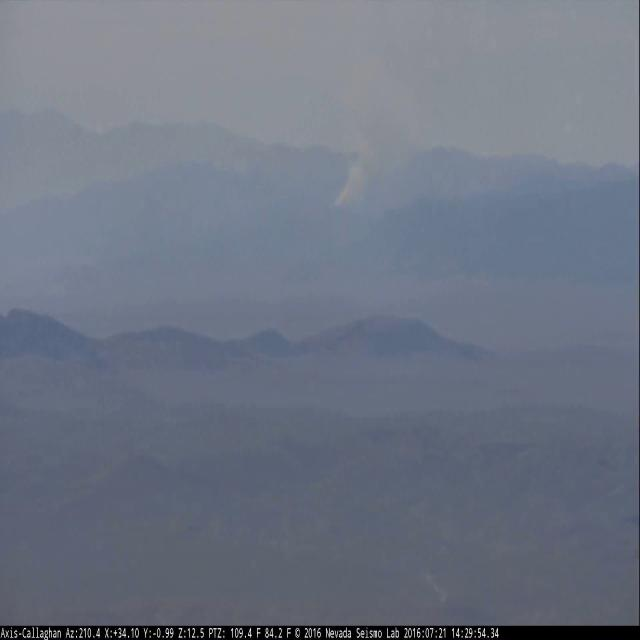smoke: (335, 48, 413, 208)
